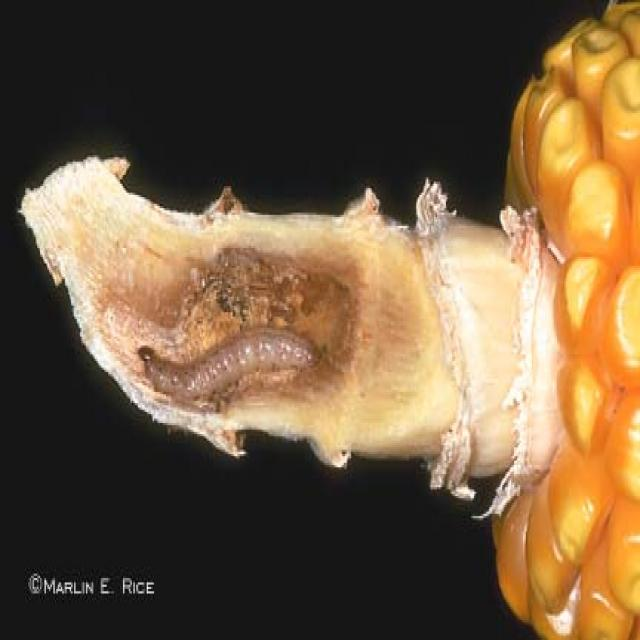cornborer-Larva-: (127, 323, 317, 408)
